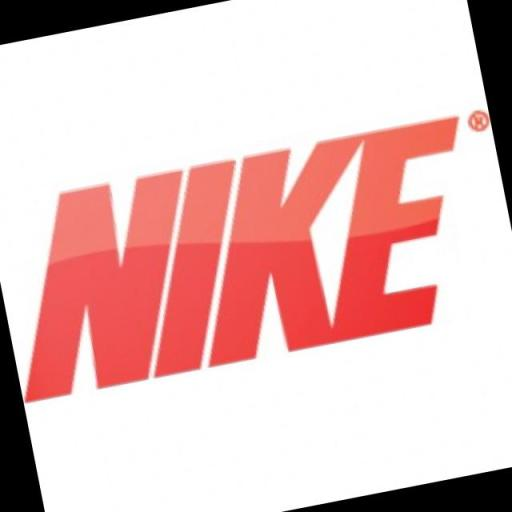Nike: (0, 110, 505, 412)
